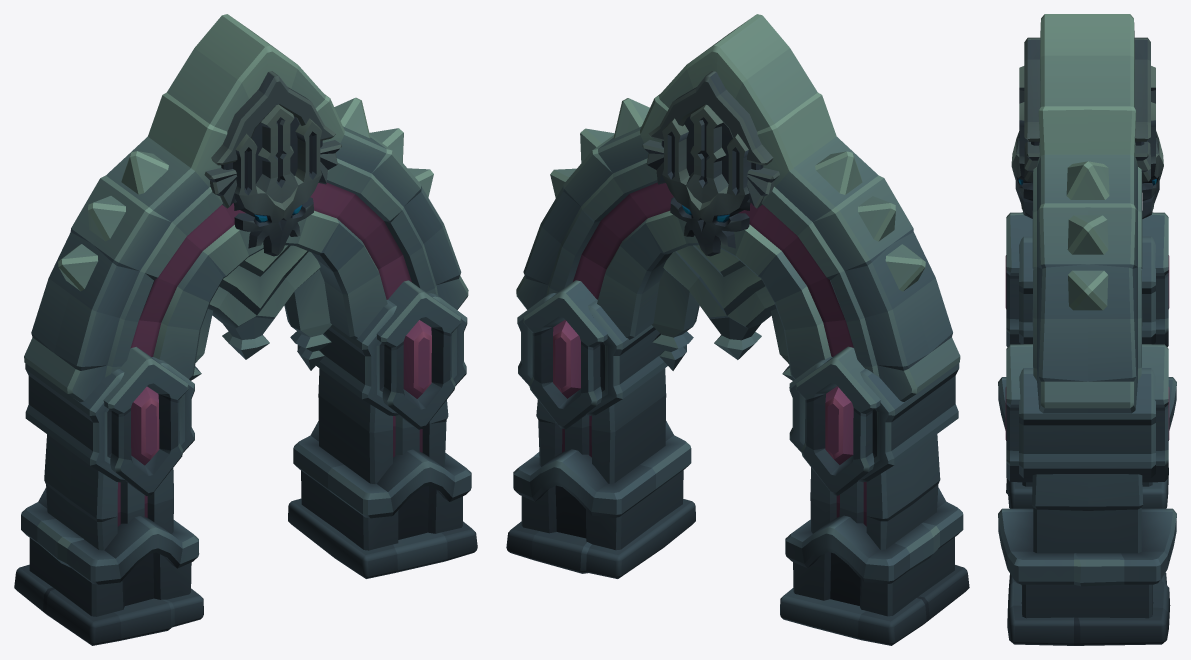
File: archway_large.fbx
3 renders of one model, left to right at view 1: azimuth 30°, elevation 25°; view 2: azimuth 150°, elevation 25°; view 3: azimuth 270°, elevation 25°, orthographic.
Visible parts, largest first — view 1: archway_large; view 2: archway_large; view 3: archway_large.
Part boxes in pixels (left/top/right/bottom): archway_large: left=14, top=14, right=477, bottom=645; archway_large: left=506, top=14, right=969, bottom=645; archway_large: left=998, top=14, right=1176, bottom=645.
Bounding box in the file's own units: 810 × 1049 × 315.
